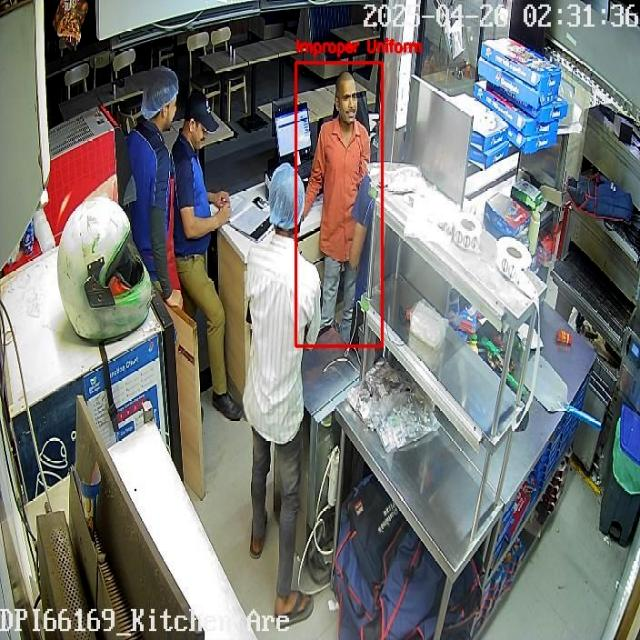helmet: (56, 195, 152, 343)
no_helmet: (268, 162, 306, 232), (140, 65, 179, 133), (180, 89, 220, 150), (335, 72, 357, 133)
